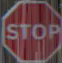Stop: (7, 6, 58, 53)
